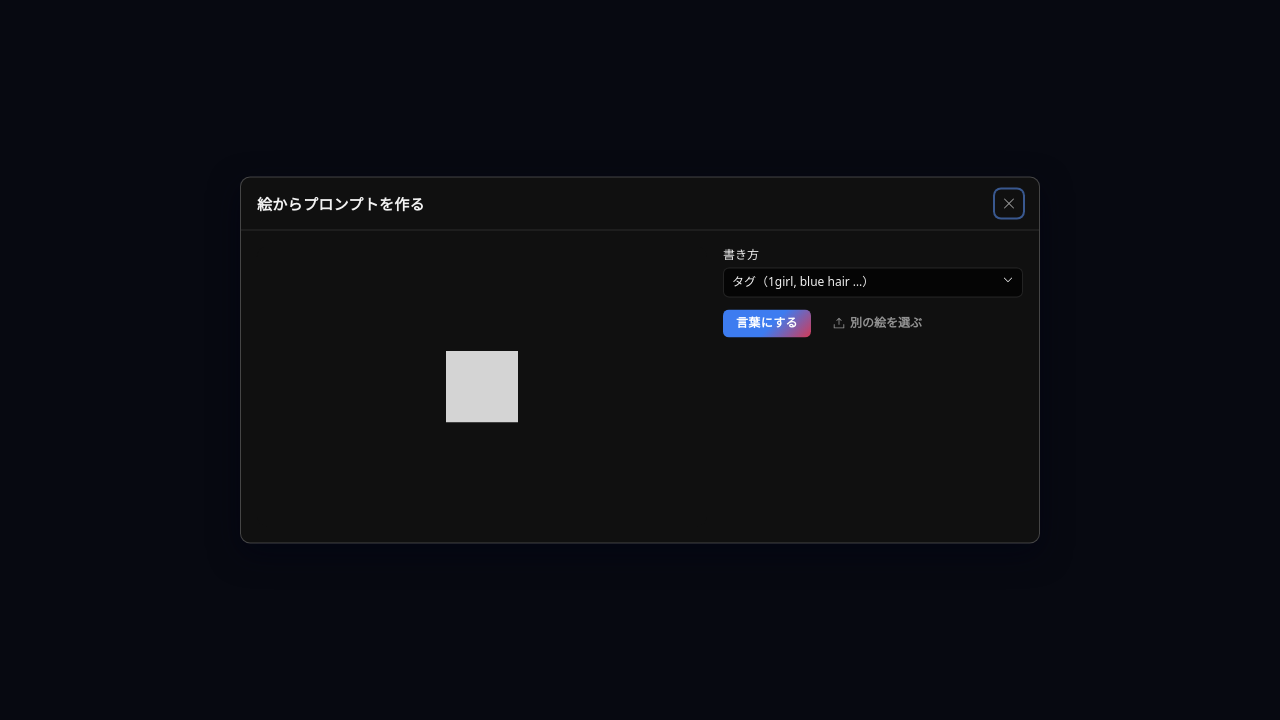
Test: running › cancels a running description without an error
Click the button with test id "caption-run": (767, 323) [723,309,811,337]
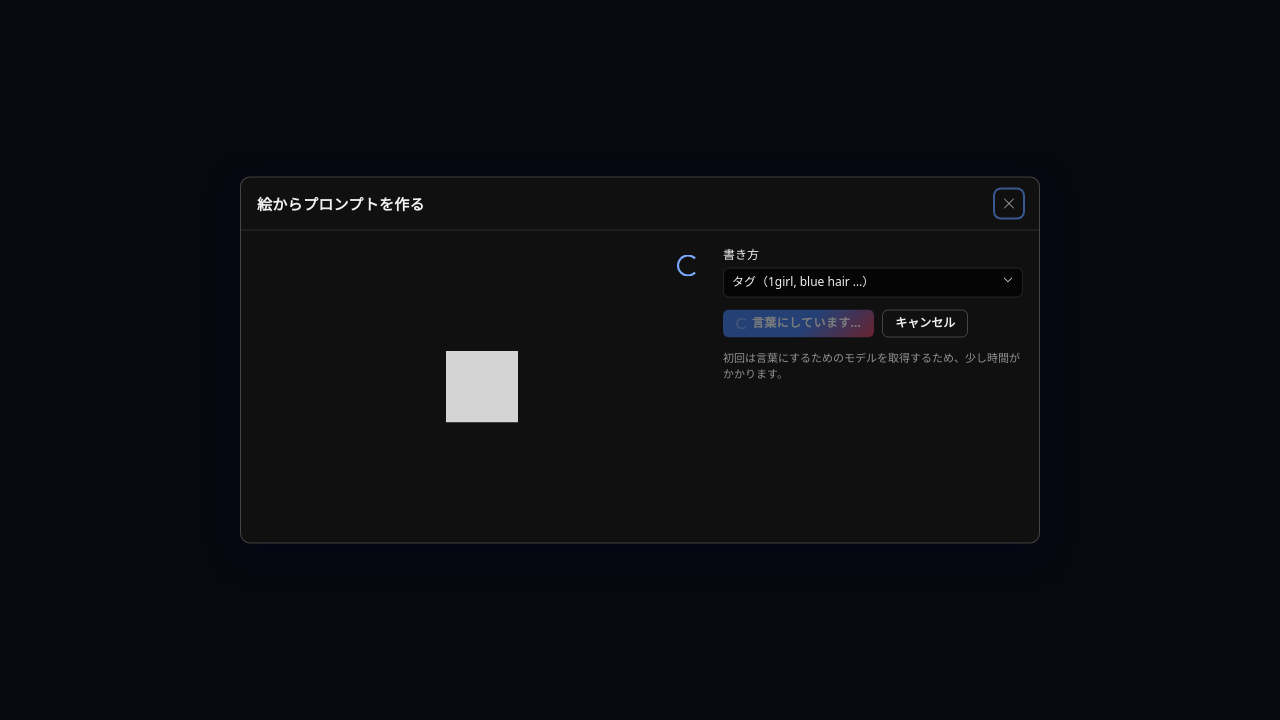
Click the button with test id "caption-cancel": (925, 323) [882,309,968,337]
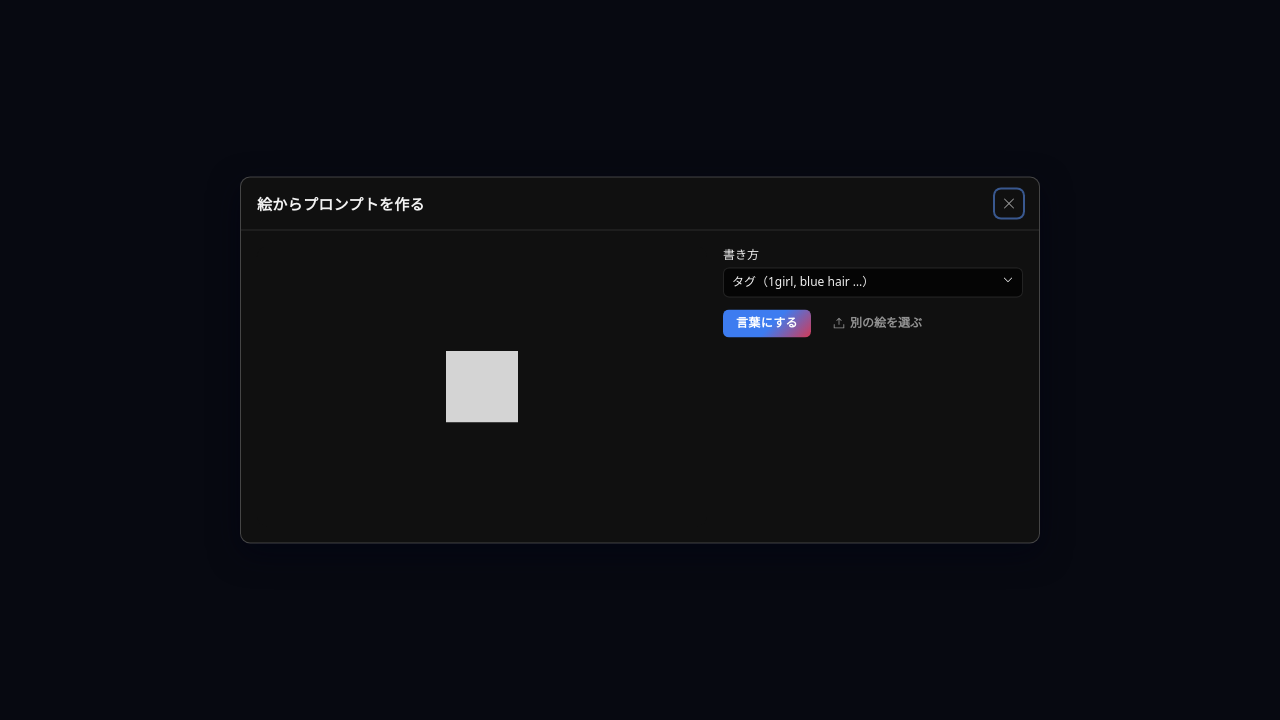
Check: the button with test id "caption-cancel" is gone
